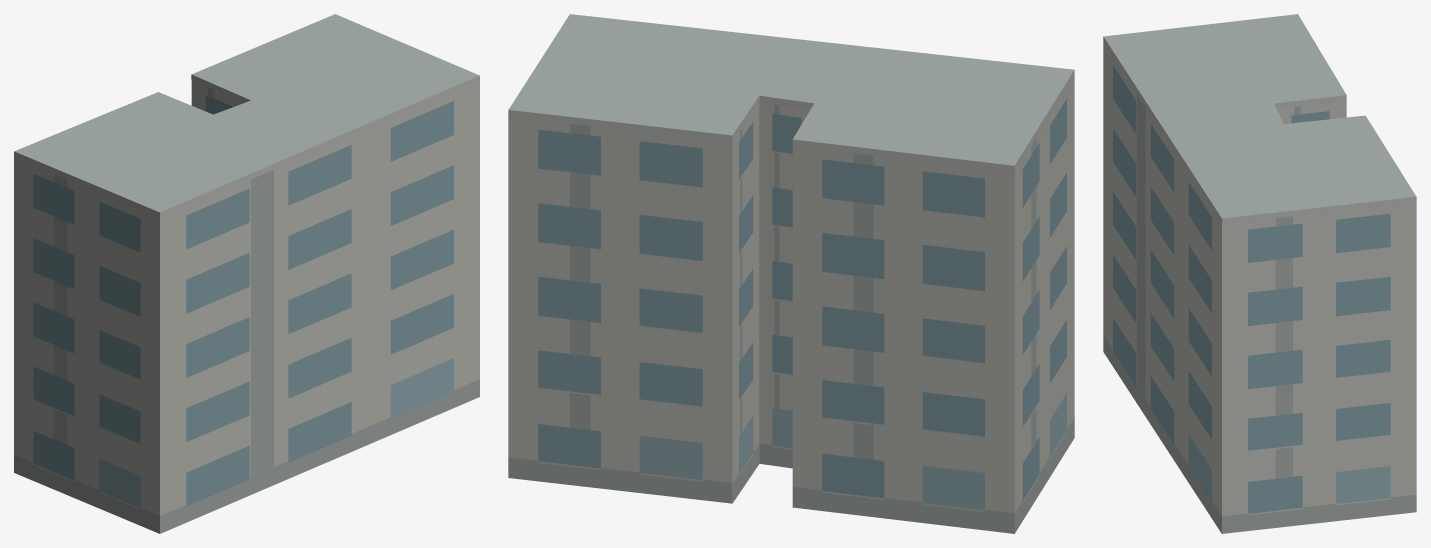
Rendered from survey-upis-32563341.glb.
The picture shows the model from 3 angles, left to right: view 1: azimuth 30°, elevation 25°; view 2: azimuth 150°, elevation 25°; view 3: azimuth 270°, elevation 25°; orthographic projection. The views are drawn at different scales.
Visible parts, largest first — view 1: survey-upis-32563341.tmp; view 2: survey-upis-32563341.tmp; view 3: survey-upis-32563341.tmp.
Boxes of the visible parts, x1,y1,x2,y2 form: survey-upis-32563341.tmp: (14,14,479,533); survey-upis-32563341.tmp: (508,14,1074,533); survey-upis-32563341.tmp: (1103,14,1416,533).
Size of the model in its own units: 18.15 by 13.05 by 11.75.
